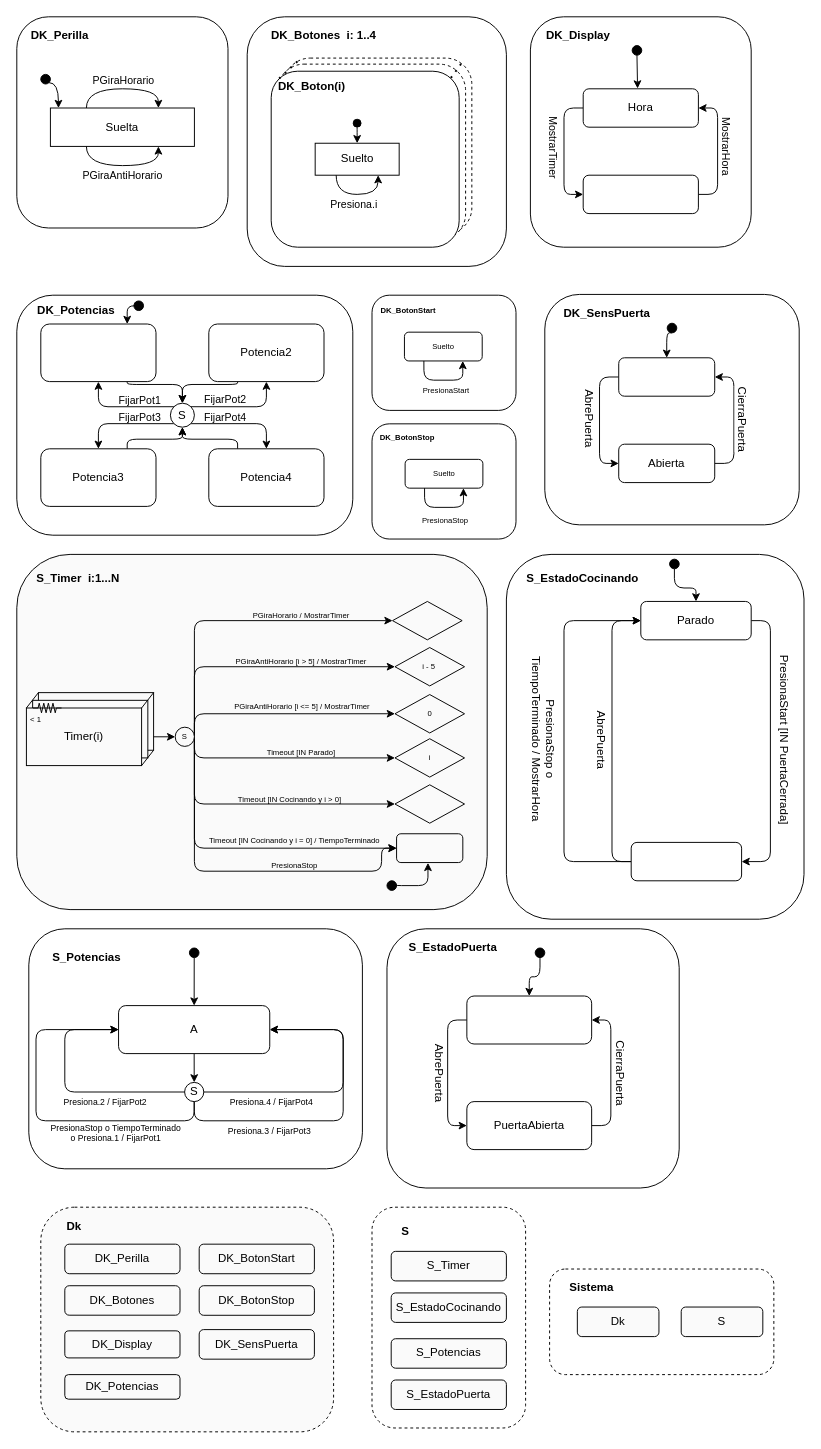
Some shapes in this 821 by 1449 pixel diagram are drawn without their labels. The centre of each missing label's shape, as x and y in pixels:
"Cerrada" goes at point 666,376.
"Cocinando" goes at point 686,861.
"i + 5" goes at point 427,620.
"i - 1" goes at point 429,803.
"Potencia1" goes at point 98,352.
"PuertaCerrada" goes at point 529,1019.
"Timer" goes at point 640,194.
"Timer(0)" goes at point 429,848.
